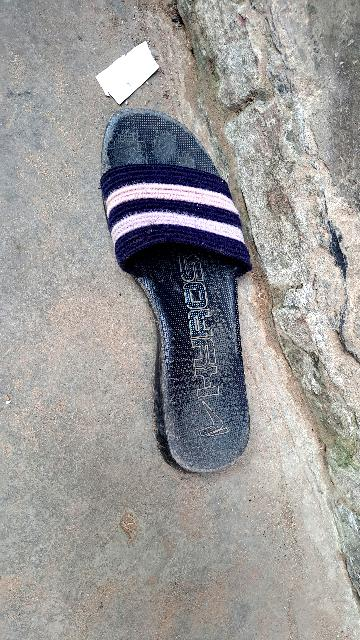sandal: (102, 118, 260, 476)
